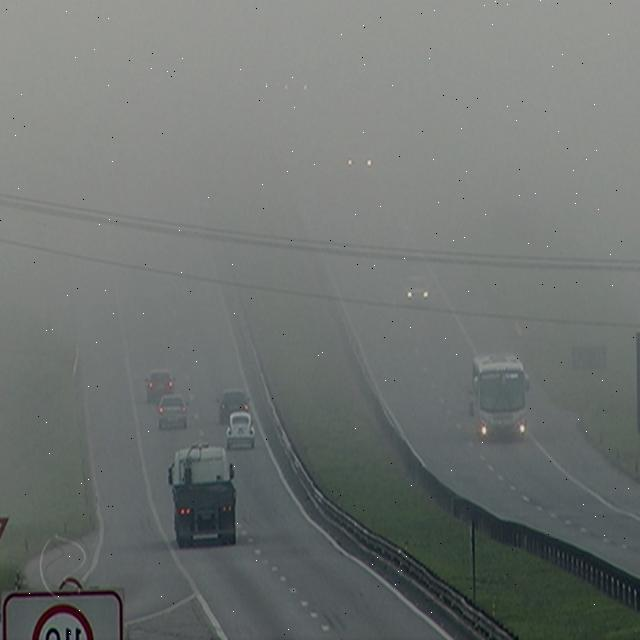Bus: (470, 351, 530, 439)
Car: (217, 390, 251, 427), (226, 411, 256, 451), (156, 394, 188, 430), (398, 278, 436, 308), (145, 370, 176, 404), (343, 143, 373, 173)
Truck: (168, 444, 238, 548)
